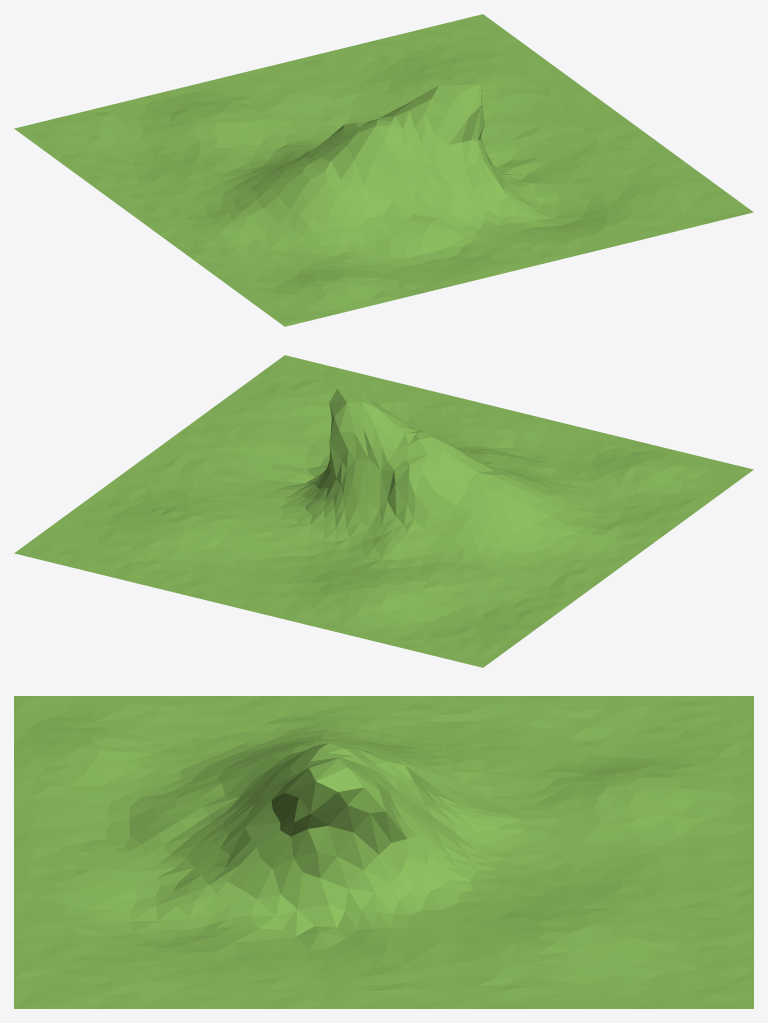
File: MT_Terrain_L_a_22.fbx
3 renders of one model, top to bottom at view 1: azimuth 30°, elevation 25°; view 2: azimuth 150°, elevation 25°; view 3: azimuth 270°, elevation 25°, orthographic. The views are drawn at different scales.
Parts seen in each view (by area): view 1: MT_Terrain_L_a_22; view 2: MT_Terrain_L_a_22; view 3: MT_Terrain_L_a_22.
Part boxes in pixels (x1,y1,x2,y2): MT_Terrain_L_a_22: (14, 14, 753, 326); MT_Terrain_L_a_22: (14, 355, 753, 667); MT_Terrain_L_a_22: (14, 696, 753, 1008).
Size of the model in its own units: 10000 by 1970 by 10000.
